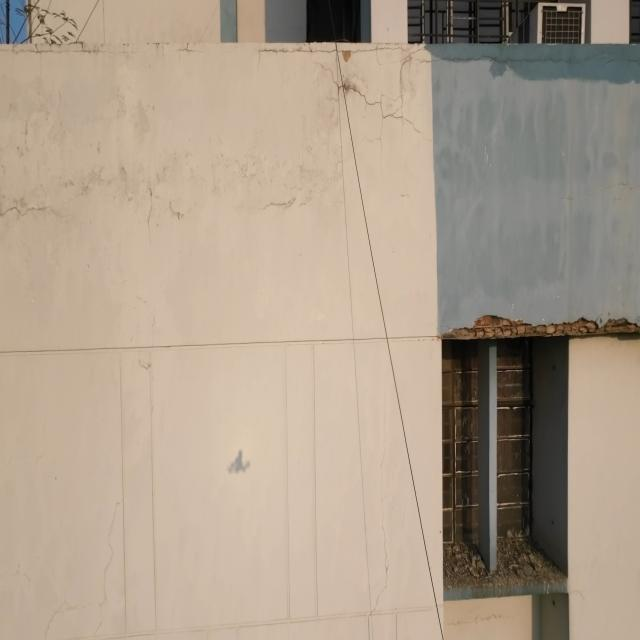Crack: (298, 43, 431, 129), (426, 44, 640, 75), (325, 70, 346, 131), (146, 103, 154, 244), (0, 206, 56, 216), (254, 45, 312, 54), (260, 197, 296, 210)
